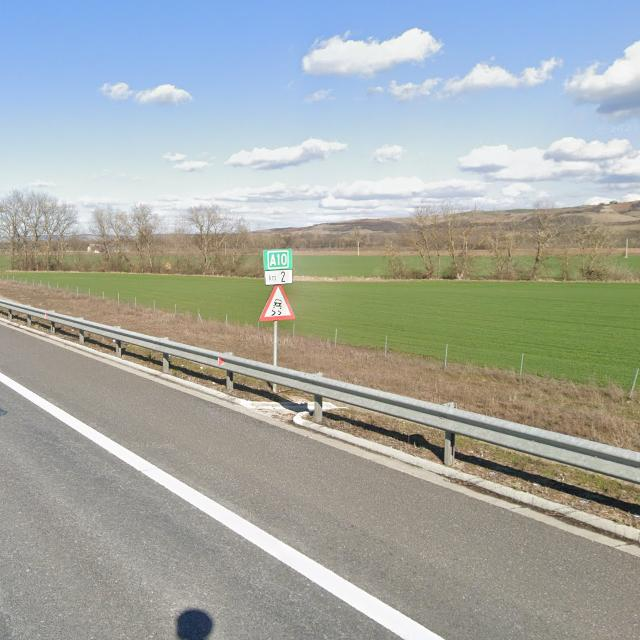warn_slippery_road: (259, 285, 296, 321)
